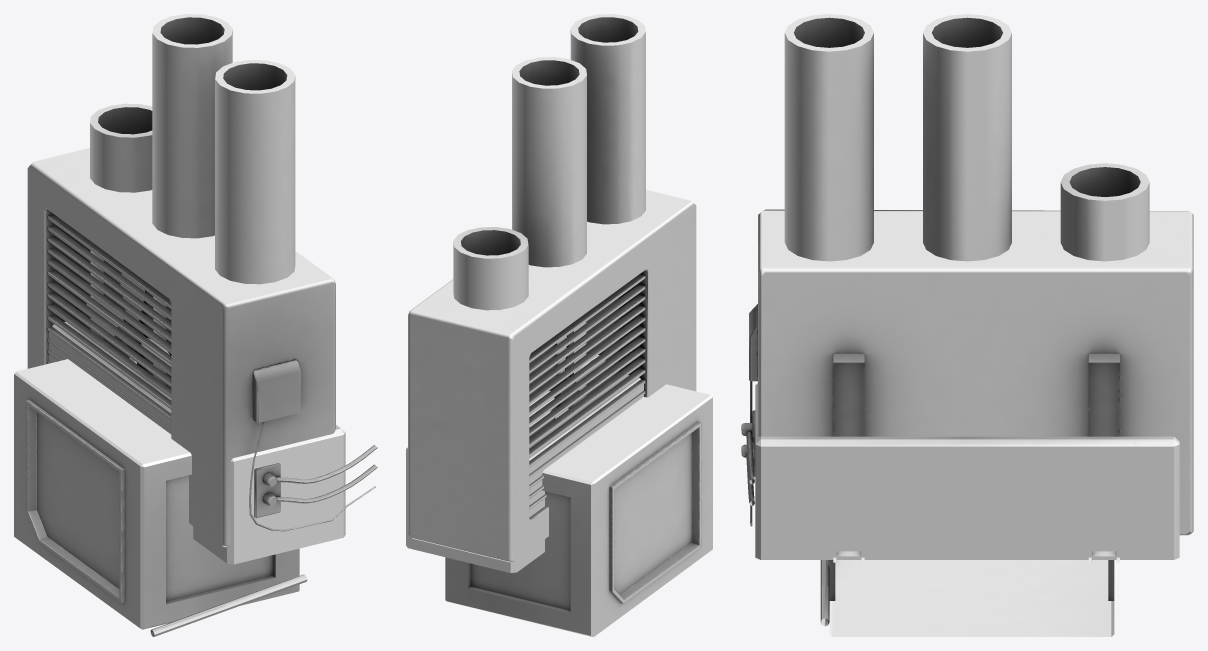
Rendered from RoofDeatils02.fbx.
The picture shows the model from 3 angles, left to right: view 1: azimuth 30°, elevation 25°; view 2: azimuth 150°, elevation 25°; view 3: azimuth 270°, elevation 25°; orthographic projection. The views are drawn at different scales.
Parts seen in each view (by area): view 1: AC01, Chimneys, AC02, vent05; view 2: AC01, Chimneys, AC02, vent05; view 3: Chimneys, AC01, AC02.
Boxes of the visible parts, <box> form: AC01: <box>27,148,377,547</box>; Chimneys: <box>49,14,345,564</box>; AC02: <box>14,359,307,636</box>; vent05: <box>86,273,171,372</box>; AC01: <box>408,190,696,562</box>; Chimneys: <box>406,14,645,572</box>; AC02: <box>445,384,712,636</box>; vent05: <box>529,336,605,427</box>; Chimneys: <box>755,14,1179,559</box>; AC01: <box>741,209,1193,562</box>; AC02: <box>820,560,1114,636</box>.
Size of the model in its own units: 89.08 by 223 by 155.
